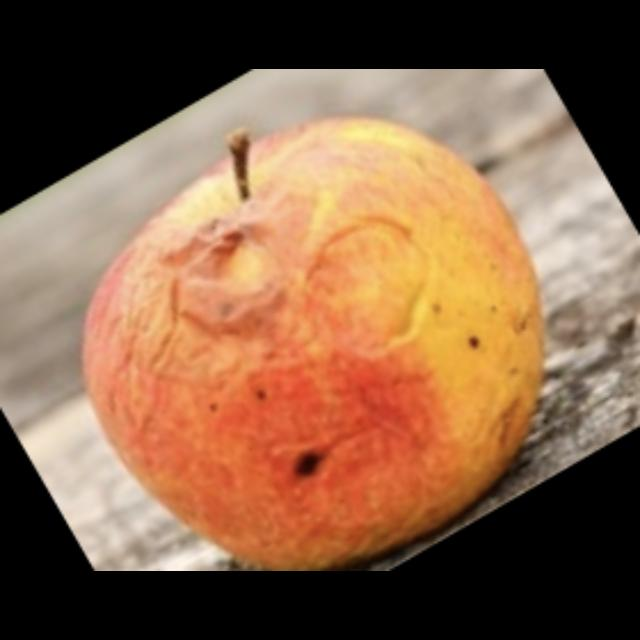Apel Tidak Segar: (82, 122, 546, 572)
